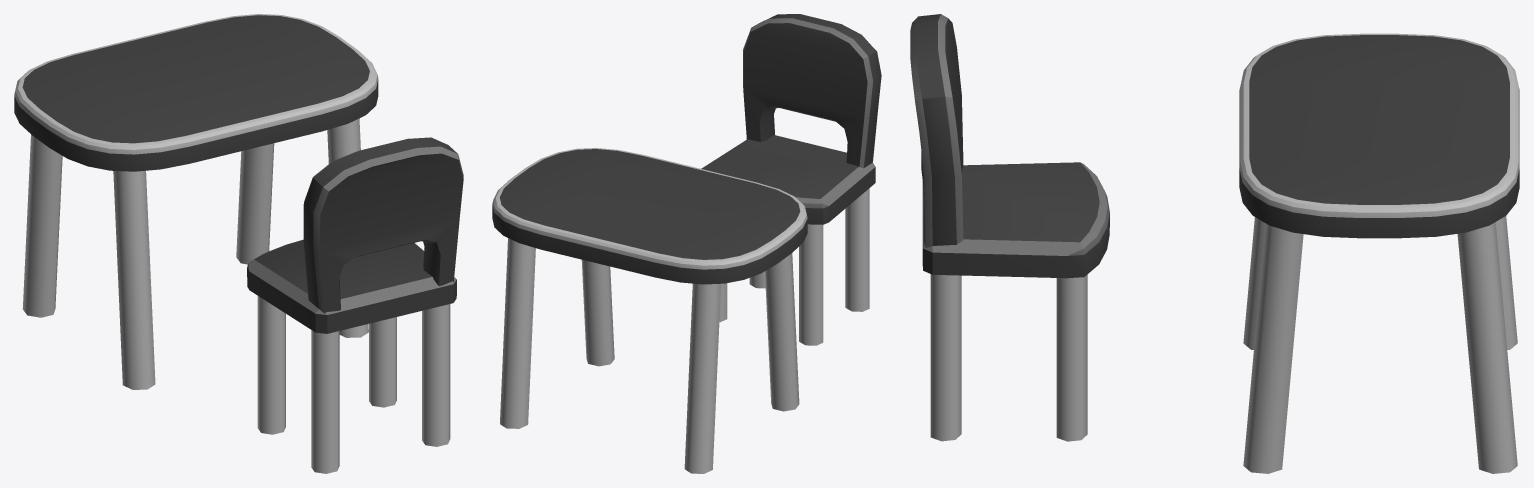
File: Studant Table Chair LEVEL-2.fbx
3 views of the same model, side by side, from view 1: azimuth 30°, elevation 25°; view 2: azimuth 150°, elevation 25°; view 3: azimuth 270°, elevation 25° (orthographic). The views are drawn at different scales.
Parts seen in each view (by area): view 1: Studant Table Chair LEVEL-2; view 2: Studant Table Chair LEVEL-2; view 3: Studant Table Chair LEVEL-2.
Boxes of the visible parts, bbox=[...] form: Studant Table Chair LEVEL-2: bbox=[14, 14, 463, 473]; Studant Table Chair LEVEL-2: bbox=[492, 14, 881, 473]; Studant Table Chair LEVEL-2: bbox=[910, 14, 1519, 473].
Bounding box in the file's own units: 8.41 × 8.13 × 12.16.
